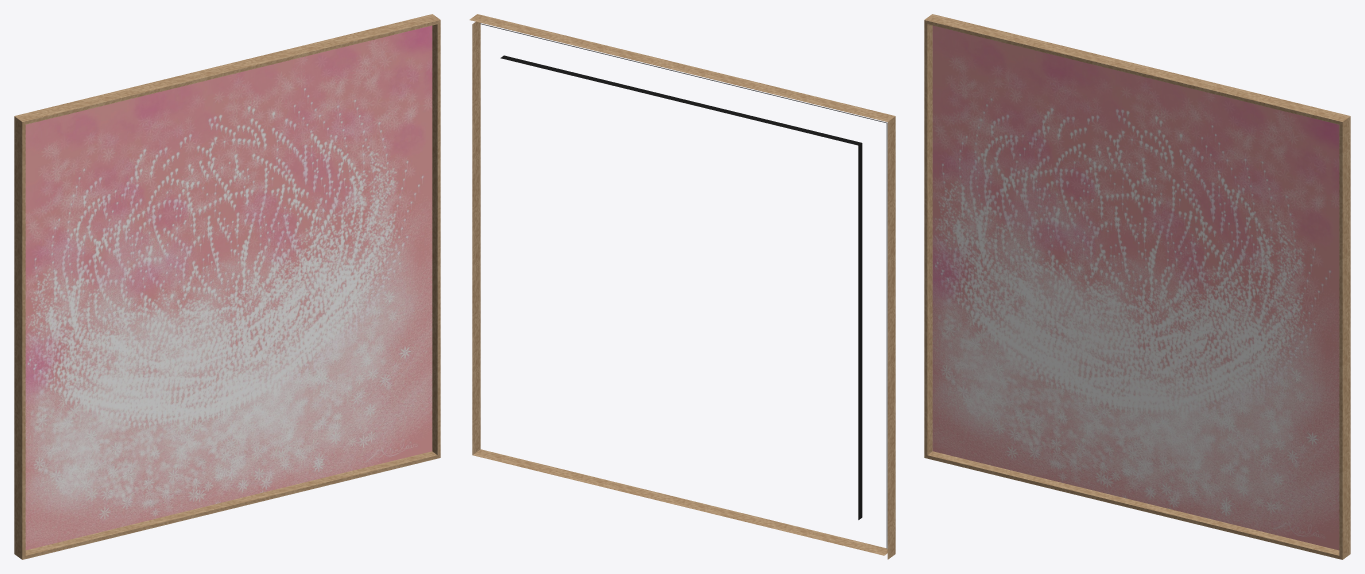
The model's file is va024_grand_caisse-chene.glb.
3 renders of one model, left to right at view 1: azimuth 30°, elevation 25°; view 2: azimuth 150°, elevation 25°; view 3: azimuth 330°, elevation 25°, orthographic.
Visible parts, largest first — view 1: va024_grand_caisse-chene; view 2: va024_grand_caisse-chene; view 3: va024_grand_caisse-chene.
Boxes of the visible parts, <box> form: va024_grand_caisse-chene: <box>14,14,440,559</box>; va024_grand_caisse-chene: <box>469,14,895,559</box>; va024_grand_caisse-chene: <box>924,14,1350,559</box>.
Size of the model in its own units: 1.03 by 1.03 by 0.035.
Materials: 4 (2 with a texture image).
